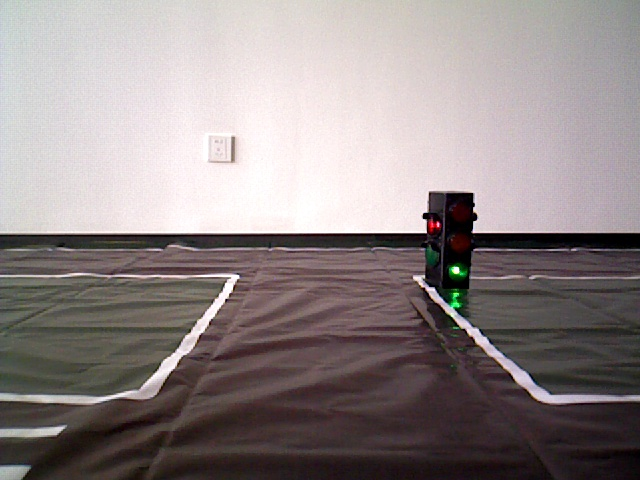green: (425, 191, 472, 291)
